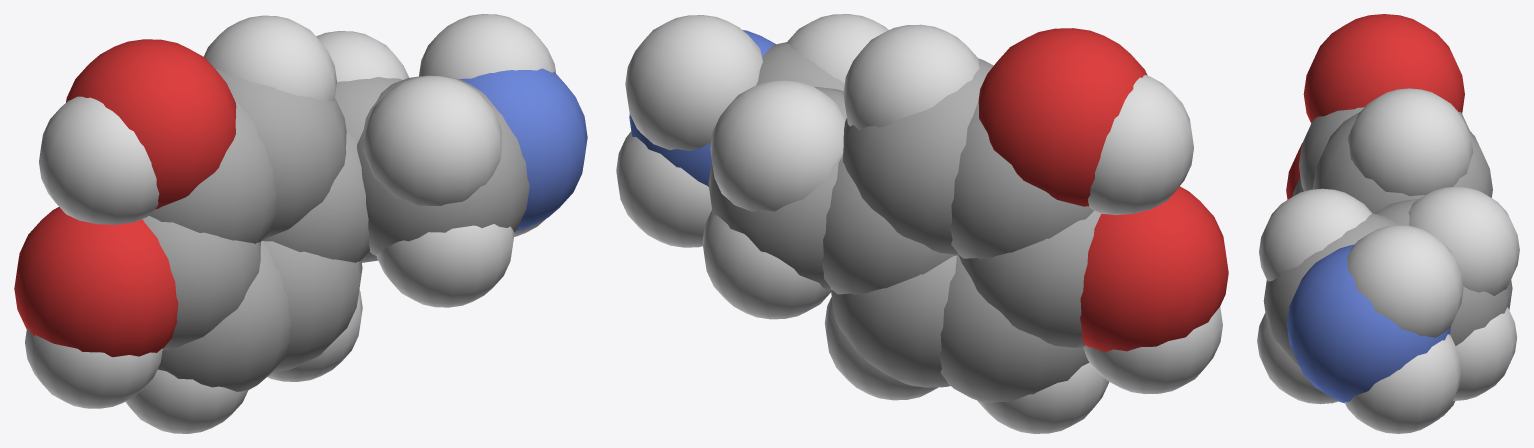
Rendered from dopamine-cpk.glb.
3 renders of one model, left to right at view 1: azimuth 30°, elevation 25°; view 2: azimuth 150°, elevation 25°; view 3: azimuth 270°, elevation 25°, orthographic. The views are drawn at different scales.
Parts seen in each view (by area): view 1: dopamine-cpk; view 2: dopamine-cpk; view 3: dopamine-cpk.
Part boxes in pixels (x1,y1,x2,y2): dopamine-cpk: [14, 14, 587, 433]; dopamine-cpk: [616, 14, 1228, 433]; dopamine-cpk: [1257, 14, 1519, 433].
Bounding box in the file's own units: 10.83 × 7.23 × 4.95.
